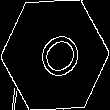O_SW: (26, 24, 84, 86)
